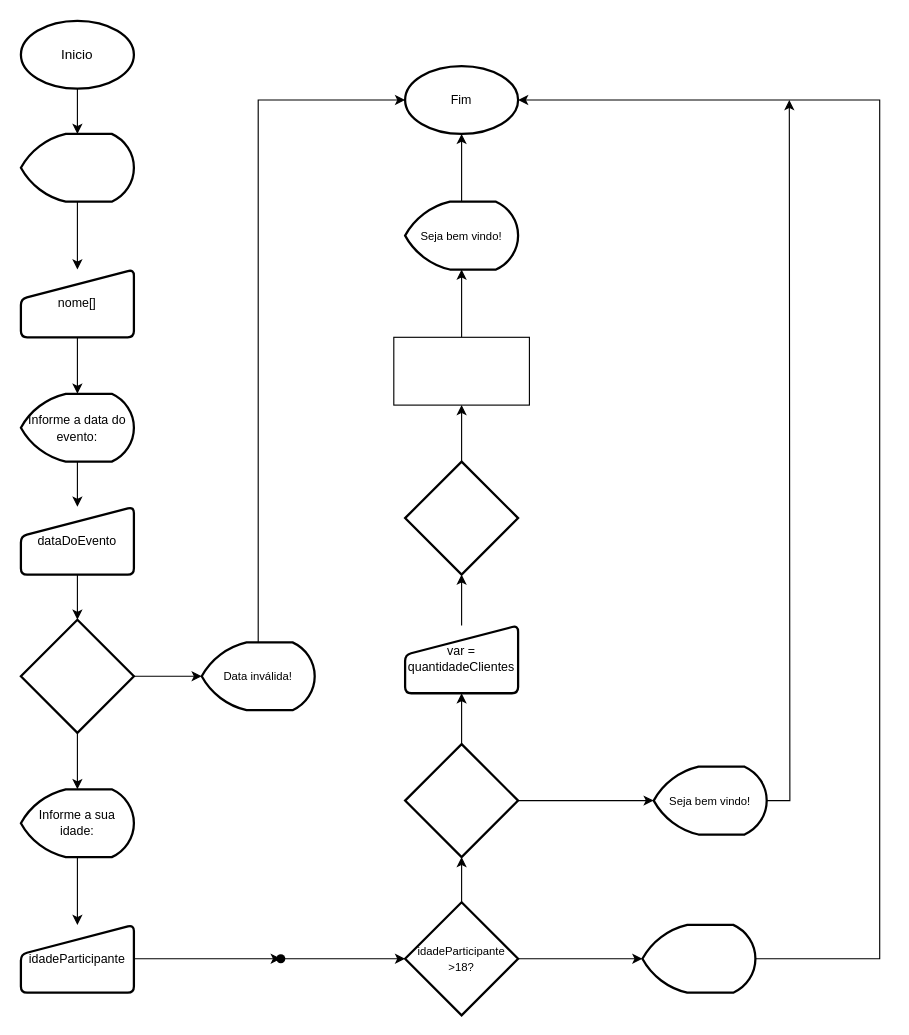
The diagram is 909 pixels wide and 1035 high, and some of its shapes have lost their labels. Each missing label, with the centre of its shape:
"dataDoEvento >hoje?" belongs at (76,675).
"Idade menor do que o permitido!" belongs at (698,958).
"Informe o nome completo:" belongs at (76,167).
"Participante ou Palestrante?" belongs at (461,800).
"quantidadeClientes++" belongs at (461,370).
"Se quantidadeClientes <100" belongs at (461,517).
